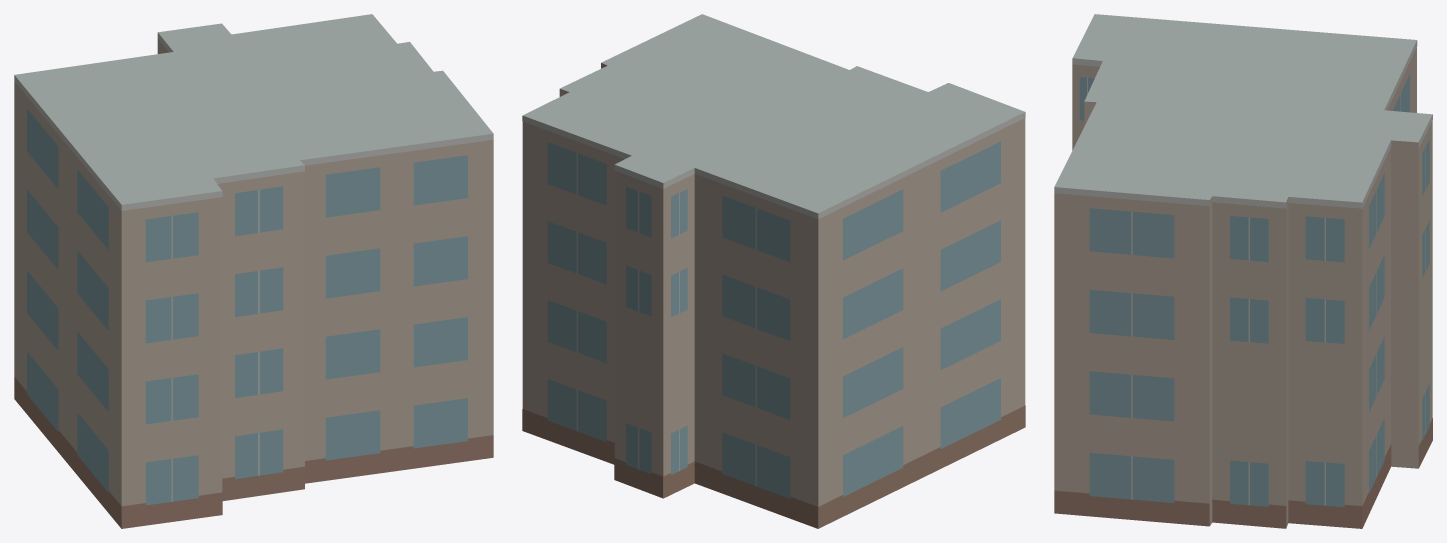
File: survey-upis-32536100.glb
3 views of the same model, side by side, from view 1: azimuth 30°, elevation 25°; view 2: azimuth 150°, elevation 25°; view 3: azimuth 270°, elevation 25° (orthographic). The views are drawn at different scales.
Parts seen in each view (by area): view 1: survey-upis-32536100.tmp; view 2: survey-upis-32536100.tmp; view 3: survey-upis-32536100.tmp.
Part boxes in pixels (x1,y1,x2,y2): survey-upis-32536100.tmp: (14, 14, 493, 528); survey-upis-32536100.tmp: (522, 14, 1025, 528); survey-upis-32536100.tmp: (1054, 14, 1432, 528).
Bounding box in the file's own units: 16.18 × 13.05 × 13.73.
